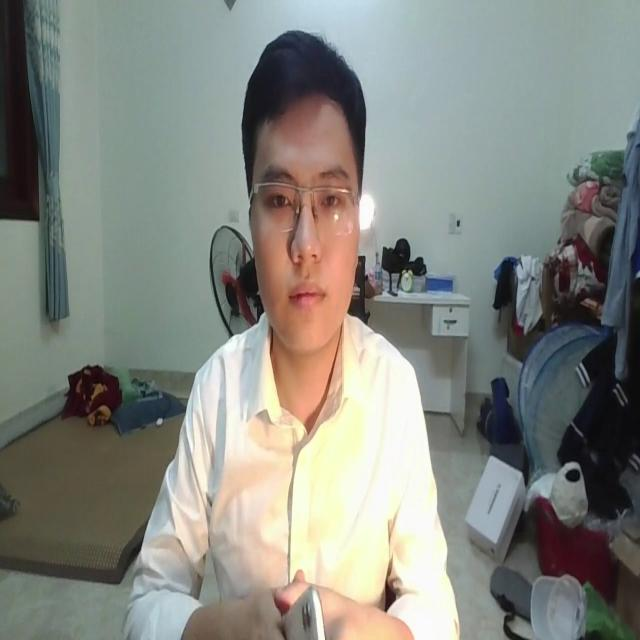phone: (277, 572, 327, 638)
student: (118, 31, 459, 640)
